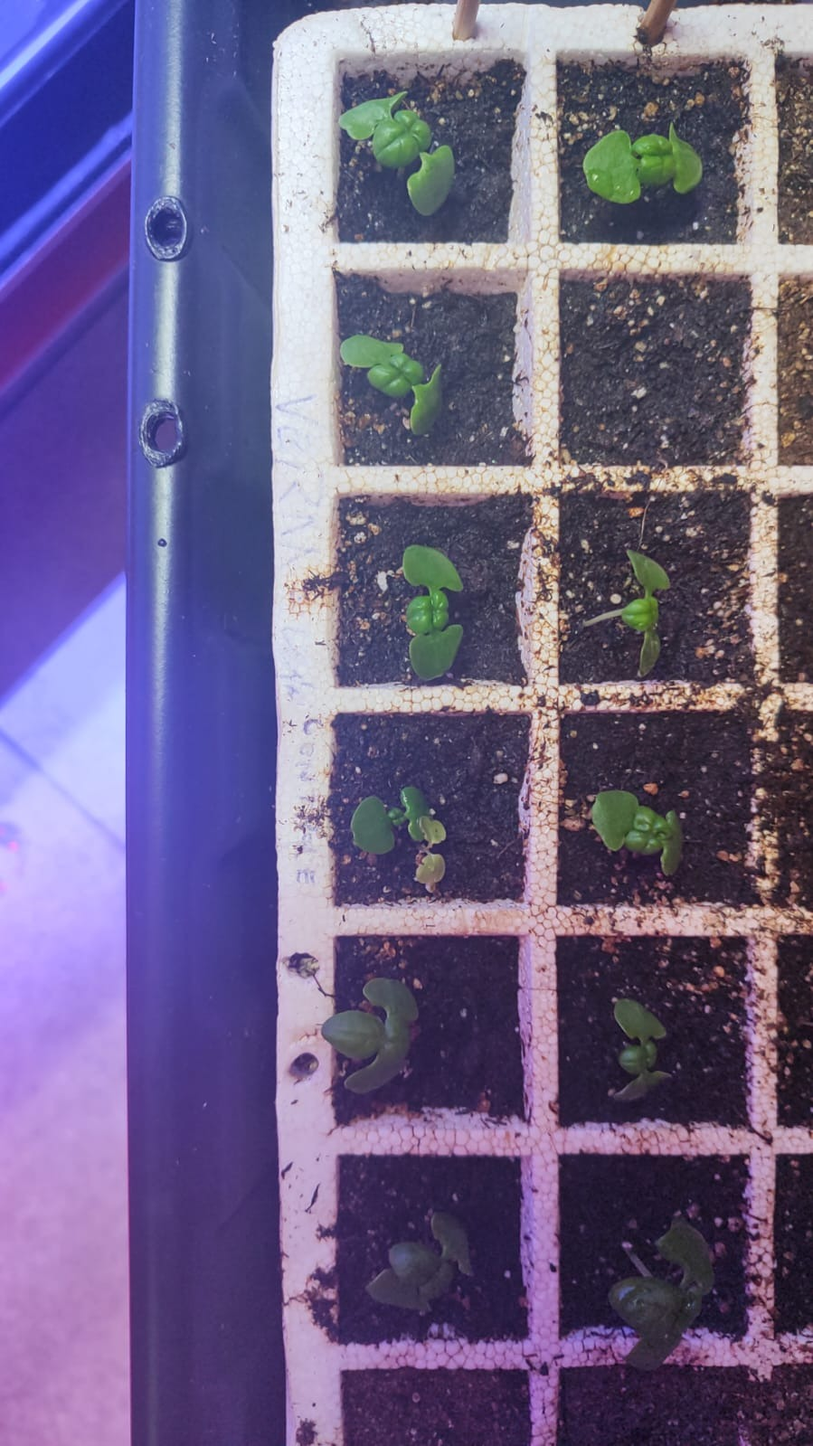Folha: (0, 586, 131, 838), (296, 75, 467, 228), (647, 264, 813, 394), (612, 1217, 720, 1334), (578, 543, 673, 676), (580, 121, 705, 208), (398, 542, 467, 684), (586, 787, 685, 877), (348, 784, 447, 856), (611, 994, 668, 1090), (338, 332, 413, 397), (437, 543, 467, 678), (407, 142, 457, 222), (364, 977, 420, 1042), (622, 133, 670, 194), (324, 1009, 379, 1061), (407, 630, 463, 681), (349, 358, 411, 396), (672, 136, 704, 193), (411, 383, 441, 430), (402, 595, 432, 632), (440, 1219, 465, 1259), (413, 850, 443, 881), (390, 1242, 417, 1275), (660, 841, 680, 873), (401, 357, 425, 380), (633, 807, 656, 828), (630, 384, 648, 399)
Germinacao: (273, 958, 421, 1059), (605, 1216, 716, 1348), (340, 96, 456, 215), (338, 330, 440, 432), (398, 543, 467, 684), (582, 126, 704, 205), (351, 784, 448, 878), (609, 547, 672, 687), (590, 789, 684, 873), (384, 984, 476, 1067), (600, 328, 685, 411), (387, 1213, 466, 1297), (609, 998, 672, 1090)
